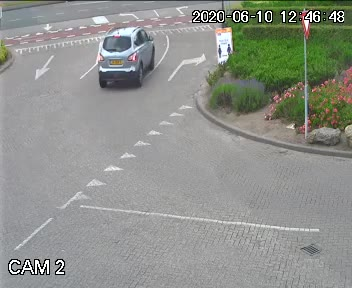car: (91, 17, 156, 97)
